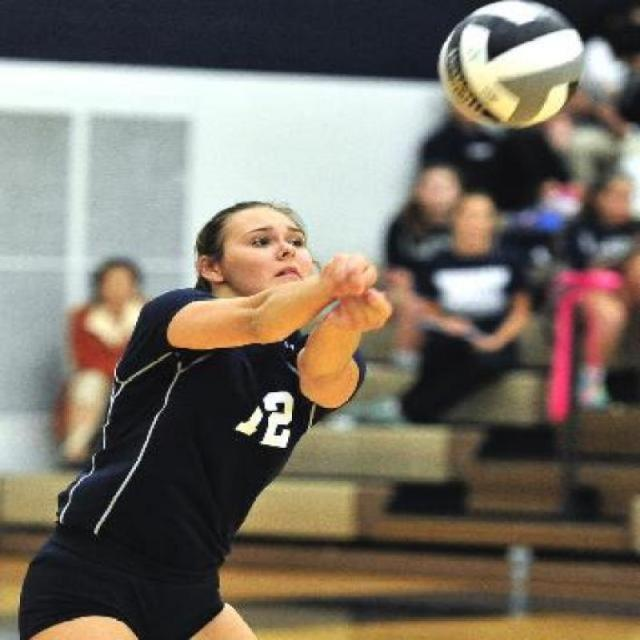volleyball: (425, 0, 594, 135)
